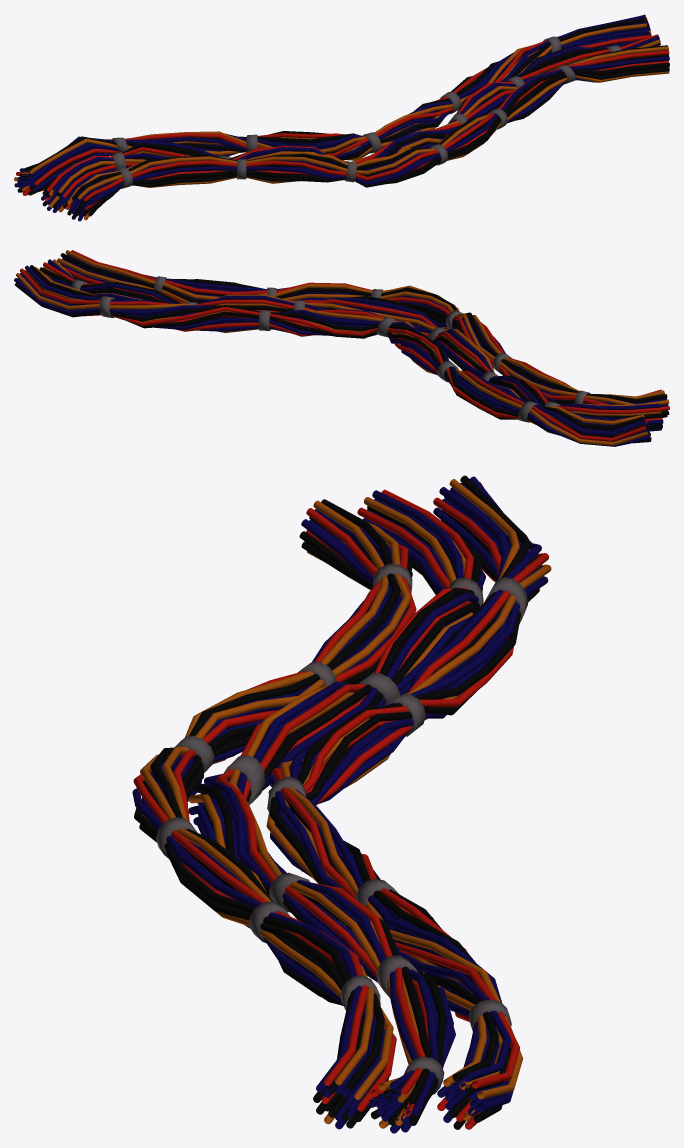
Rendered from wires.fbx.
The picture shows the model from 3 angles, top to bottom: view 1: azimuth 30°, elevation 25°; view 2: azimuth 150°, elevation 25°; view 3: azimuth 270°, elevation 25°; orthographic projection. The views are drawn at different scales.
Parts seen in each view (by area): view 1: Wires.004, Wires.001, Wires.002, Wires, Wires.003, Wires.005, Ties; view 2: Wires.001, Wires.002, Wires, Wires.004, Wires.005, Wires.003, Ties; view 3: Wires.001, Wires, Wires.002, Wires.004, Wires.003, Wires.005, Ties.
Boxes of the visible parts, bbox=[...] form: Wires.004: bbox=[17, 18, 669, 216]; Wires.001: bbox=[16, 14, 669, 210]; Wires.002: bbox=[14, 17, 669, 220]; Wires: bbox=[17, 15, 668, 221]; Wires.003: bbox=[14, 22, 669, 212]; Wires.005: bbox=[19, 18, 668, 219]; Ties: bbox=[111, 36, 621, 188]; Wires.001: bbox=[20, 250, 669, 441]; Wires.002: bbox=[16, 250, 669, 445]; Wires: bbox=[20, 257, 667, 441]; Wires.004: bbox=[14, 265, 669, 443]; Wires.005: bbox=[24, 253, 667, 437]; Wires.003: bbox=[14, 254, 668, 446]; Ties: bbox=[71, 276, 590, 422]; Wires.001: bbox=[133, 482, 548, 1129]; Wires: bbox=[142, 476, 542, 1132]; Wires.002: bbox=[140, 479, 551, 1128]; Wires.004: bbox=[134, 475, 539, 1129]; Wires.003: bbox=[132, 496, 548, 1133]; Wires.005: bbox=[150, 499, 538, 1128]; Ties: bbox=[156, 564, 527, 1094].
Size of the model in its own units: 181 by 10.47 by 51.72.
